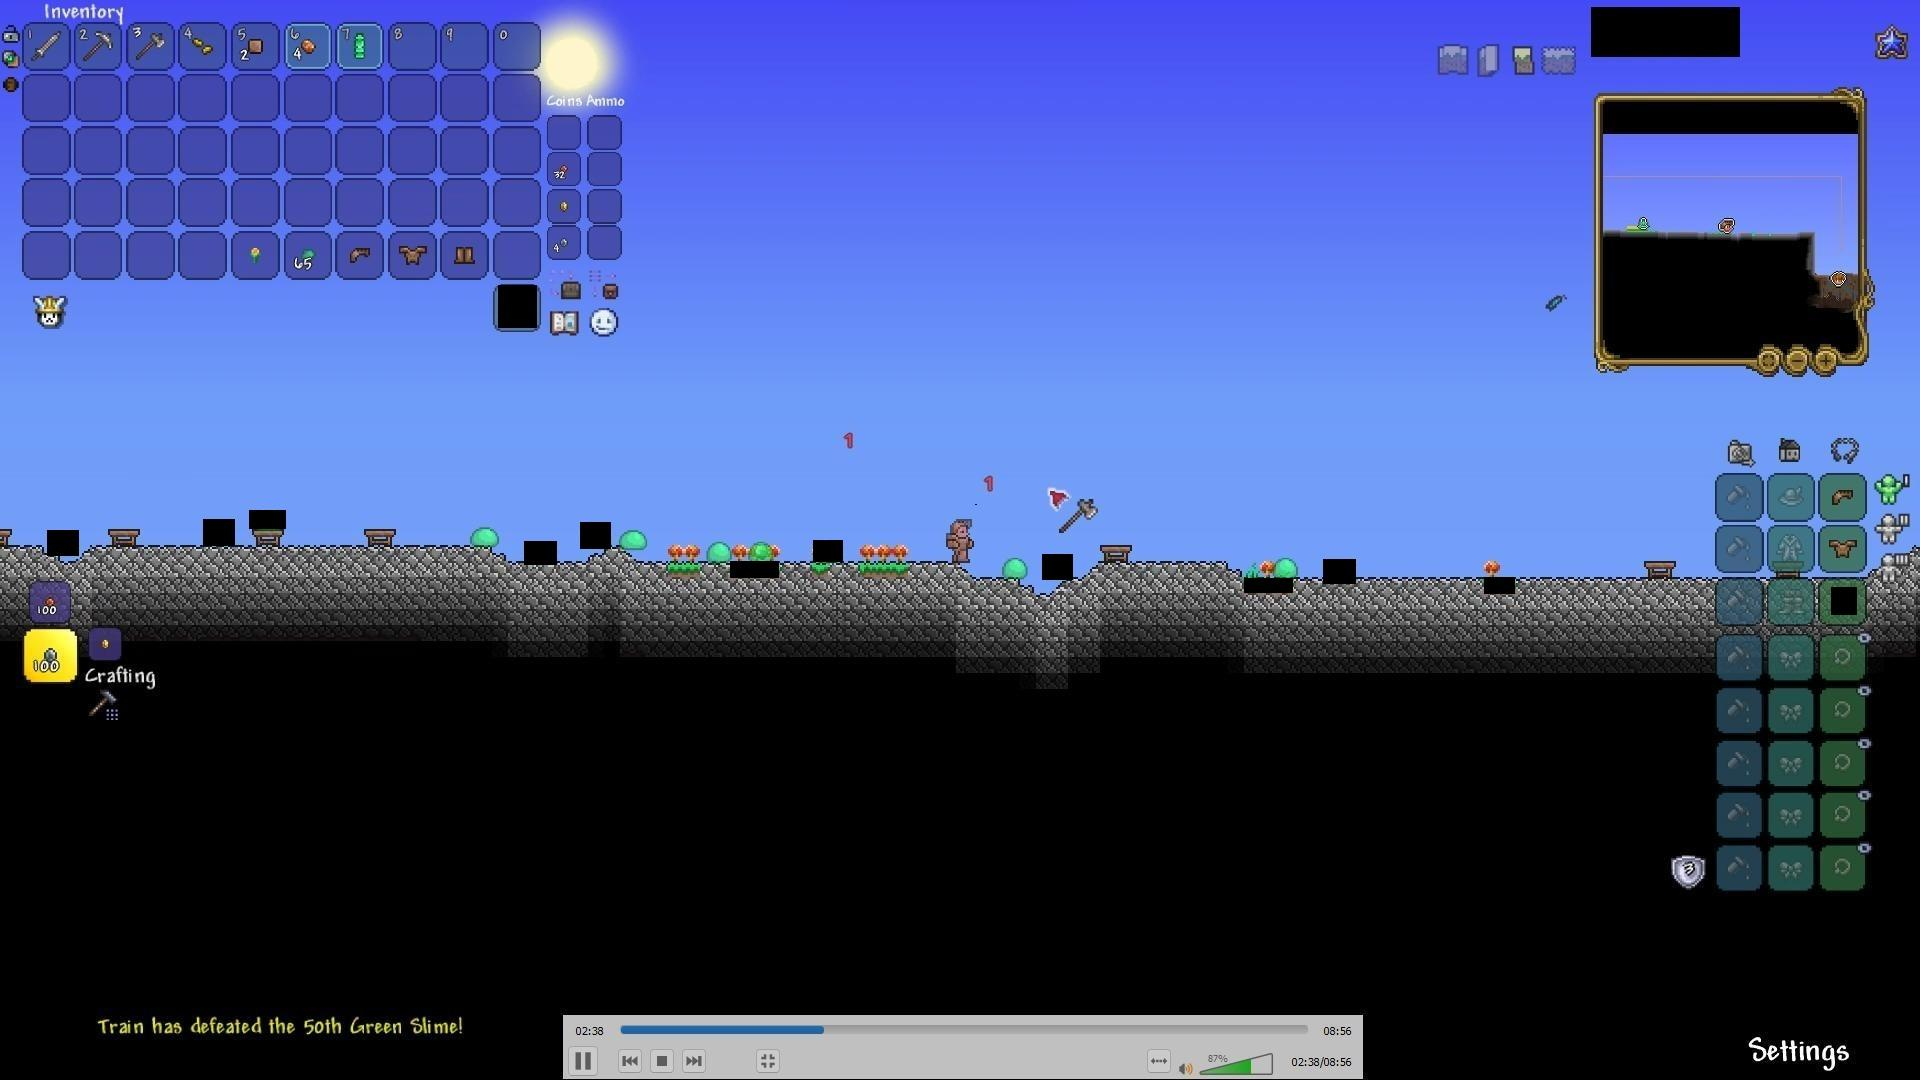breastplate: (397, 241, 429, 262), (1830, 537, 1859, 558)
dirt: (860, 559, 907, 576), (667, 562, 700, 579)
helmet: (347, 243, 375, 268), (1829, 484, 1857, 509)
legs: (452, 241, 477, 265)
slime: (469, 522, 501, 549), (618, 525, 649, 550), (1001, 554, 1030, 578), (1274, 555, 1302, 578), (704, 541, 733, 562), (746, 542, 775, 563)
workbench: (363, 526, 396, 553), (1097, 543, 1131, 568), (1644, 556, 1677, 582), (107, 526, 141, 550), (251, 529, 284, 546)
